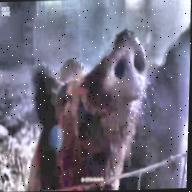boar: (23, 29, 159, 192)
